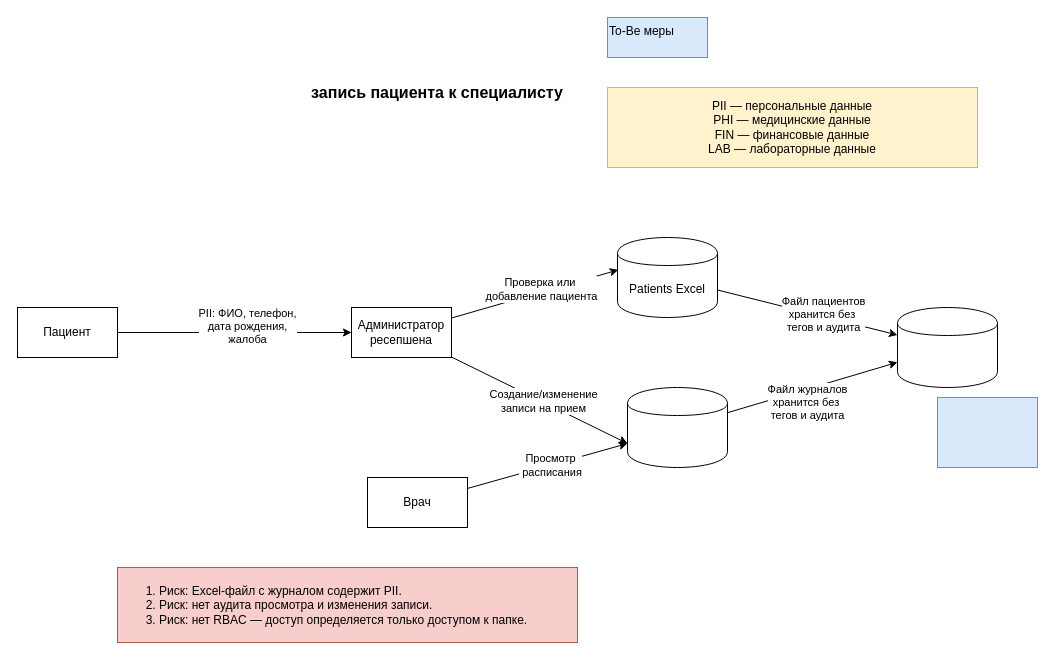
The diagram is 1055 pixels wide and 660 high, and some of its shapes have lost their labels. Each missing label, with the centre of its shape:
AES-256 Encryption Audit Log RBAC: (x=987, y=432)
File Server: (x=947, y=347)
Journal-Doctor-FIO Excel: (x=677, y=427)
